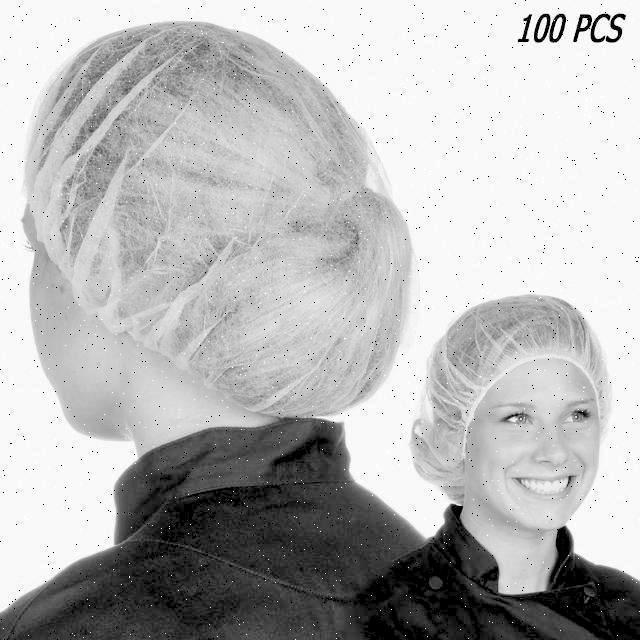gloves: (110, 32, 382, 374), (454, 290, 590, 380)
no_hairnet: (486, 430, 585, 503)
